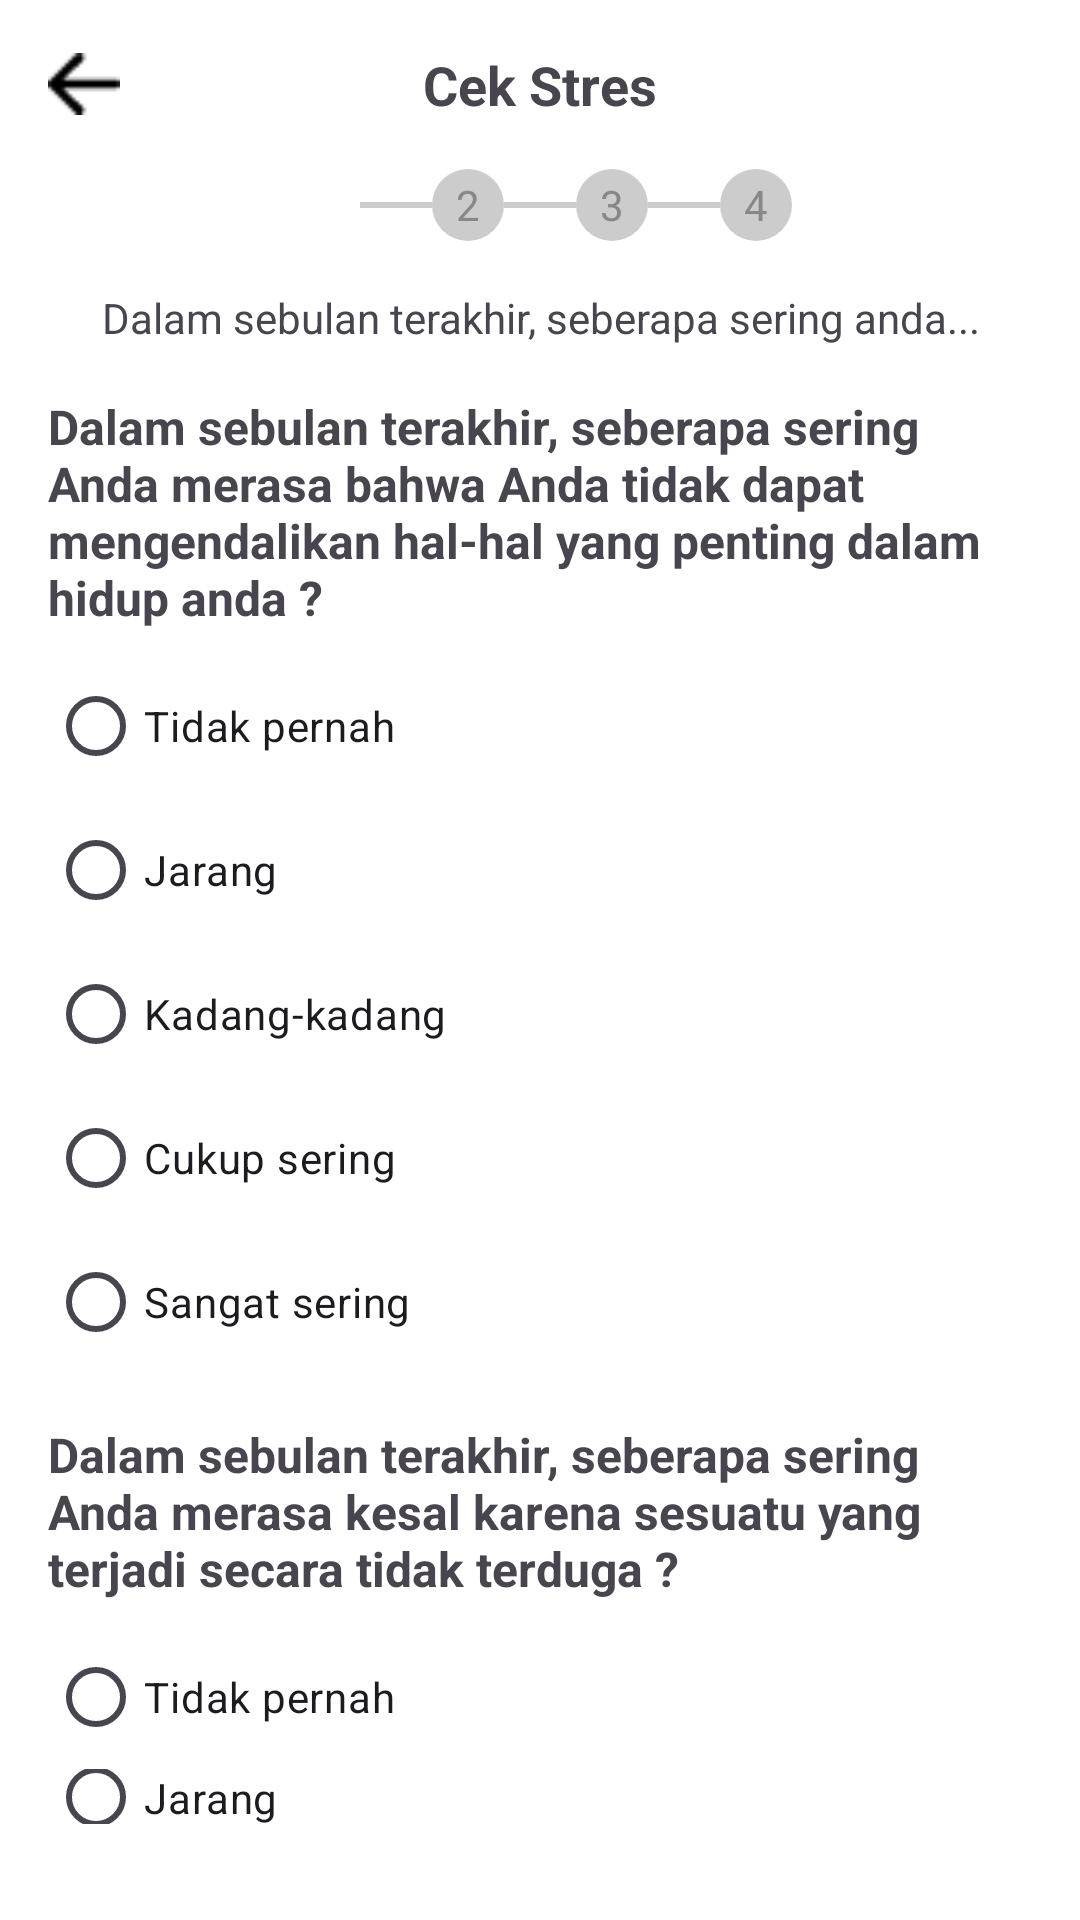

Icons on this 1080px×1920px Android screen, each with its box as (x1, y1, x2, y2):
Kembali: (48, 53, 120, 115)
